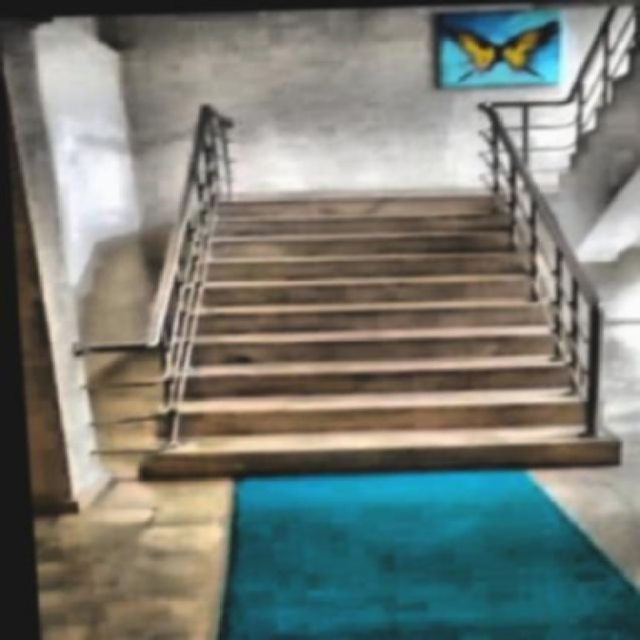stair: (122, 192, 623, 485)
